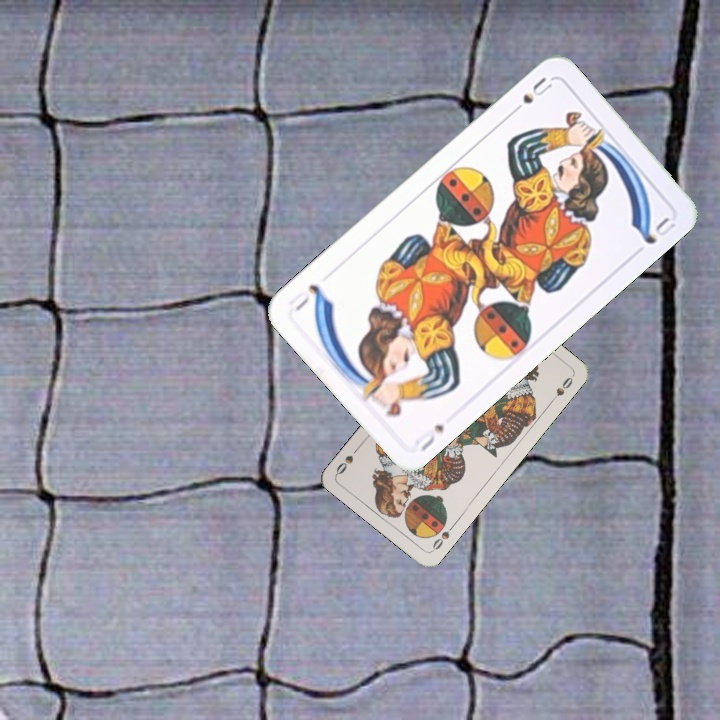SO: (428, 520, 458, 554)
SU: (506, 73, 555, 118), (410, 420, 447, 455)
